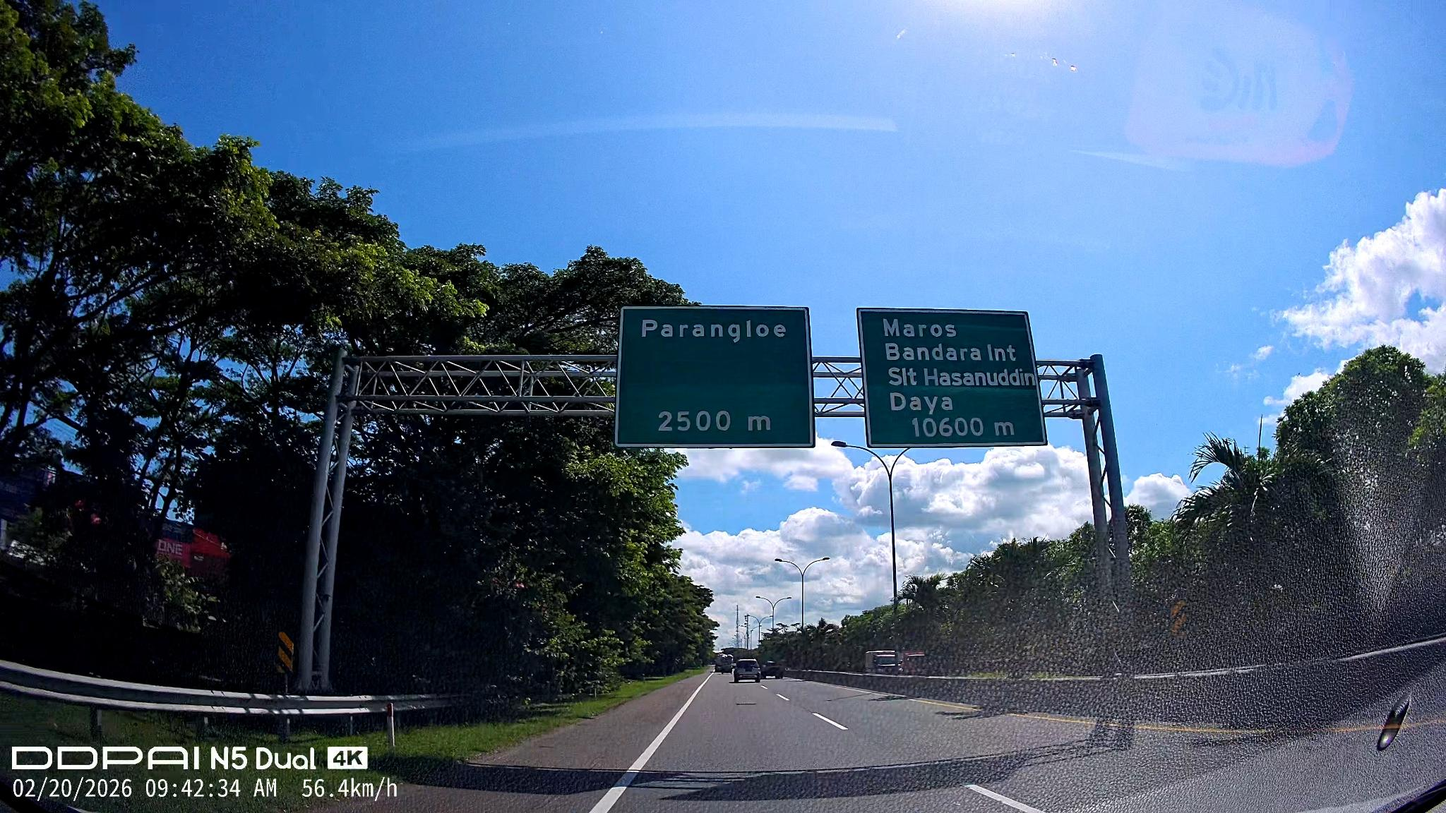rambu_teks: (614, 305, 818, 448), (855, 304, 1049, 451)
